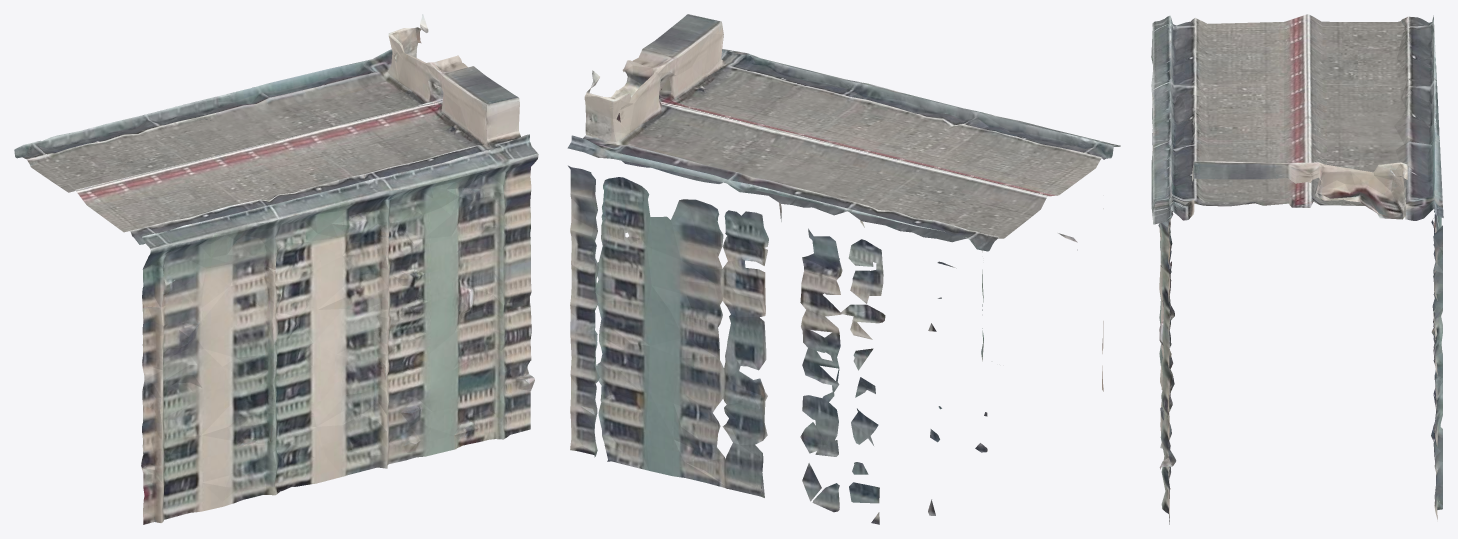
Rendered from Tile_+011_+009_L20_000001150.glb.
The picture shows the model from 3 angles, left to right: view 1: azimuth 30°, elevation 25°; view 2: azimuth 150°, elevation 25°; view 3: azimuth 270°, elevation 25°; orthographic projection. The views are drawn at different scales.
Visible parts, largest first — view 1: rtc; view 2: rtc; view 3: rtc.
Boxes of the visible parts, x1=… form: rtc: x1=14, y1=14, x2=538, y2=524; rtc: x1=567, y1=14, x2=1120, y2=524; rtc: x1=1151, y1=14, x2=1443, y2=524.
Size of the model in its own units: 31.87 by 26.36 by 19.2.
1 material, 1 textured.
